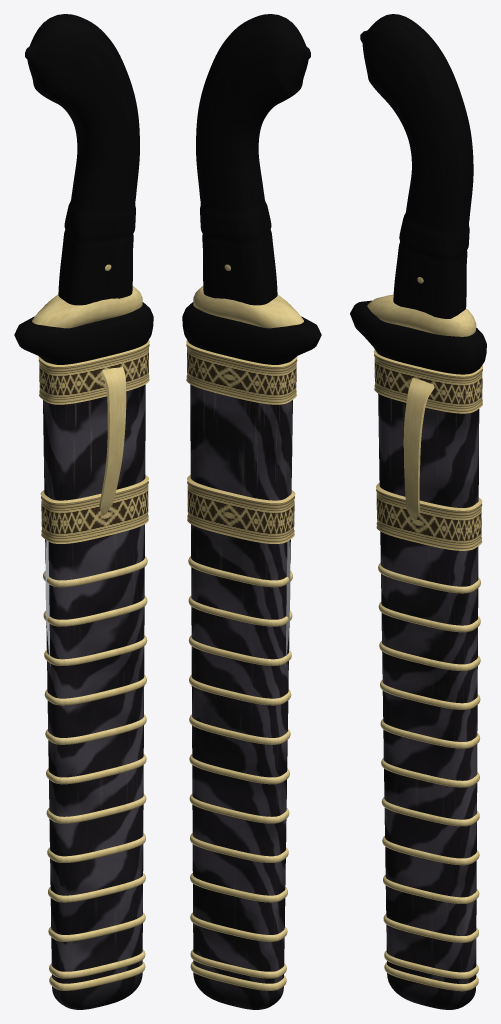
The model's file is golok.glb.
3 views of the same model, side by side, from view 1: azimuth 30°, elevation 25°; view 2: azimuth 150°, elevation 25°; view 3: azimuth 330°, elevation 25° (orthographic).
Parts seen in each view (by area): view 1: Sarung_Badan, Hulu, Sarung_Simpay, Sarung_Kepala, Sarung_Sangkep, Salut, Bilah; view 2: Sarung_Badan, Hulu, Sarung_Simpay, Sarung_Kepala, Salut, Bilah; view 3: Sarung_Badan, Hulu, Sarung_Simpay, Sarung_Kepala, Sarung_Sangkep, Salut.
Part boxes in pixels (box(x1,y1,x2,y2)): Sarung_Badan: box(43, 384, 145, 1009); Hulu: box(25, 14, 139, 305); Sarung_Simpay: box(38, 340, 149, 990); Sarung_Kepala: box(14, 302, 153, 364); Sarung_Sangkep: box(99, 367, 126, 515); Salut: box(32, 286, 142, 328); Bilah: box(45, 540, 50, 665); Sarung_Badan: box(190, 384, 292, 1009); Hulu: box(196, 14, 310, 305); Sarung_Simpay: box(186, 340, 297, 990); Sarung_Kepala: box(182, 302, 321, 364); Salut: box(193, 286, 303, 328); Bilah: box(285, 540, 290, 665); Sarung_Badan: box(378, 393, 479, 1009); Hulu: box(360, 14, 473, 318); Sarung_Simpay: box(374, 350, 482, 991); Sarung_Kepala: box(350, 300, 486, 374); Sarung_Sangkep: box(403, 378, 434, 520); Salut: box(367, 294, 476, 336).
Bounding box in the file's own units: 0.064 × 0.4599 × 0.0281.
6 materials, 5 textured.
